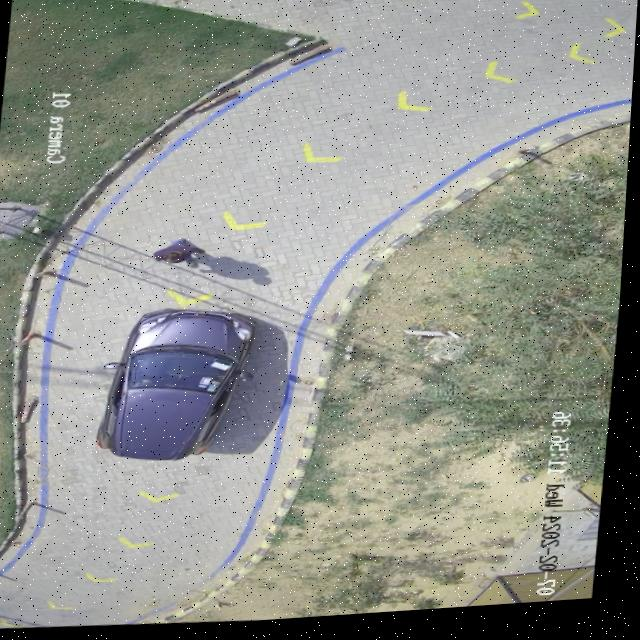car: (101, 312, 259, 463)
